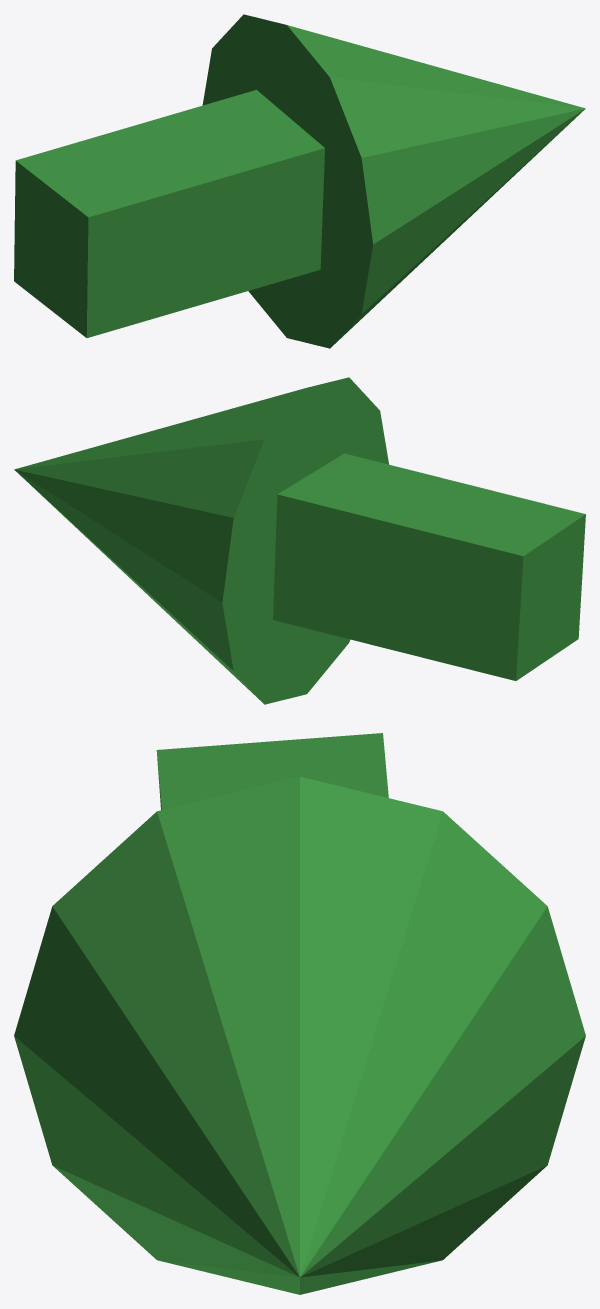
File: arrow.gltf
The picture shows the model from 3 angles, top to bottom: view 1: azimuth 30°, elevation 25°; view 2: azimuth 150°, elevation 25°; view 3: azimuth 270°, elevation 25°; orthographic projection. The views are drawn at different scales.
Visible parts, largest first — view 1: node_MeshObject-1707256832-PolyPaper21; view 2: node_MeshObject-1707256832-PolyPaper21; view 3: node_MeshObject-1707256832-PolyPaper21.
Part boxes in pixels (x1,y1,x2,y2): node_MeshObject-1707256832-PolyPaper21: [14, 14, 585, 348]; node_MeshObject-1707256832-PolyPaper21: [14, 377, 585, 704]; node_MeshObject-1707256832-PolyPaper21: [14, 733, 585, 1294].
Size of the model in its own units: 0.3645 by 0.2 by 0.2.
